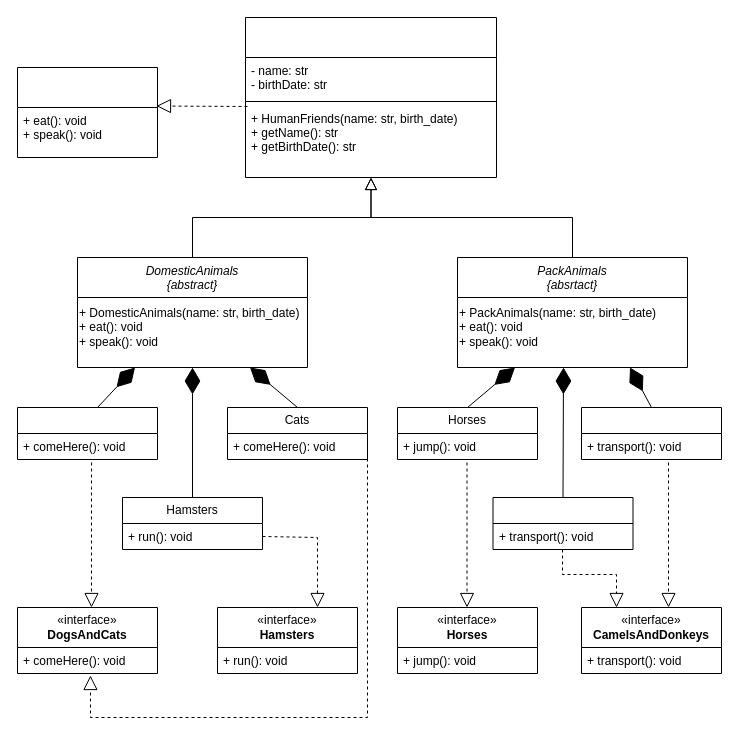
This 739x749 diagram has some shape labels left out. The shapes that lost their labels are listed below. From the top down, each one's box as (x1, y1, x2, y2) in pixels, then its label:
(16, 66, 158, 158): «interface» Animals
(244, 16, 496, 178): Animals {abstract}
(16, 406, 158, 460): Dogs
(580, 406, 722, 460): Camels
(492, 496, 633, 550): Donkeys
